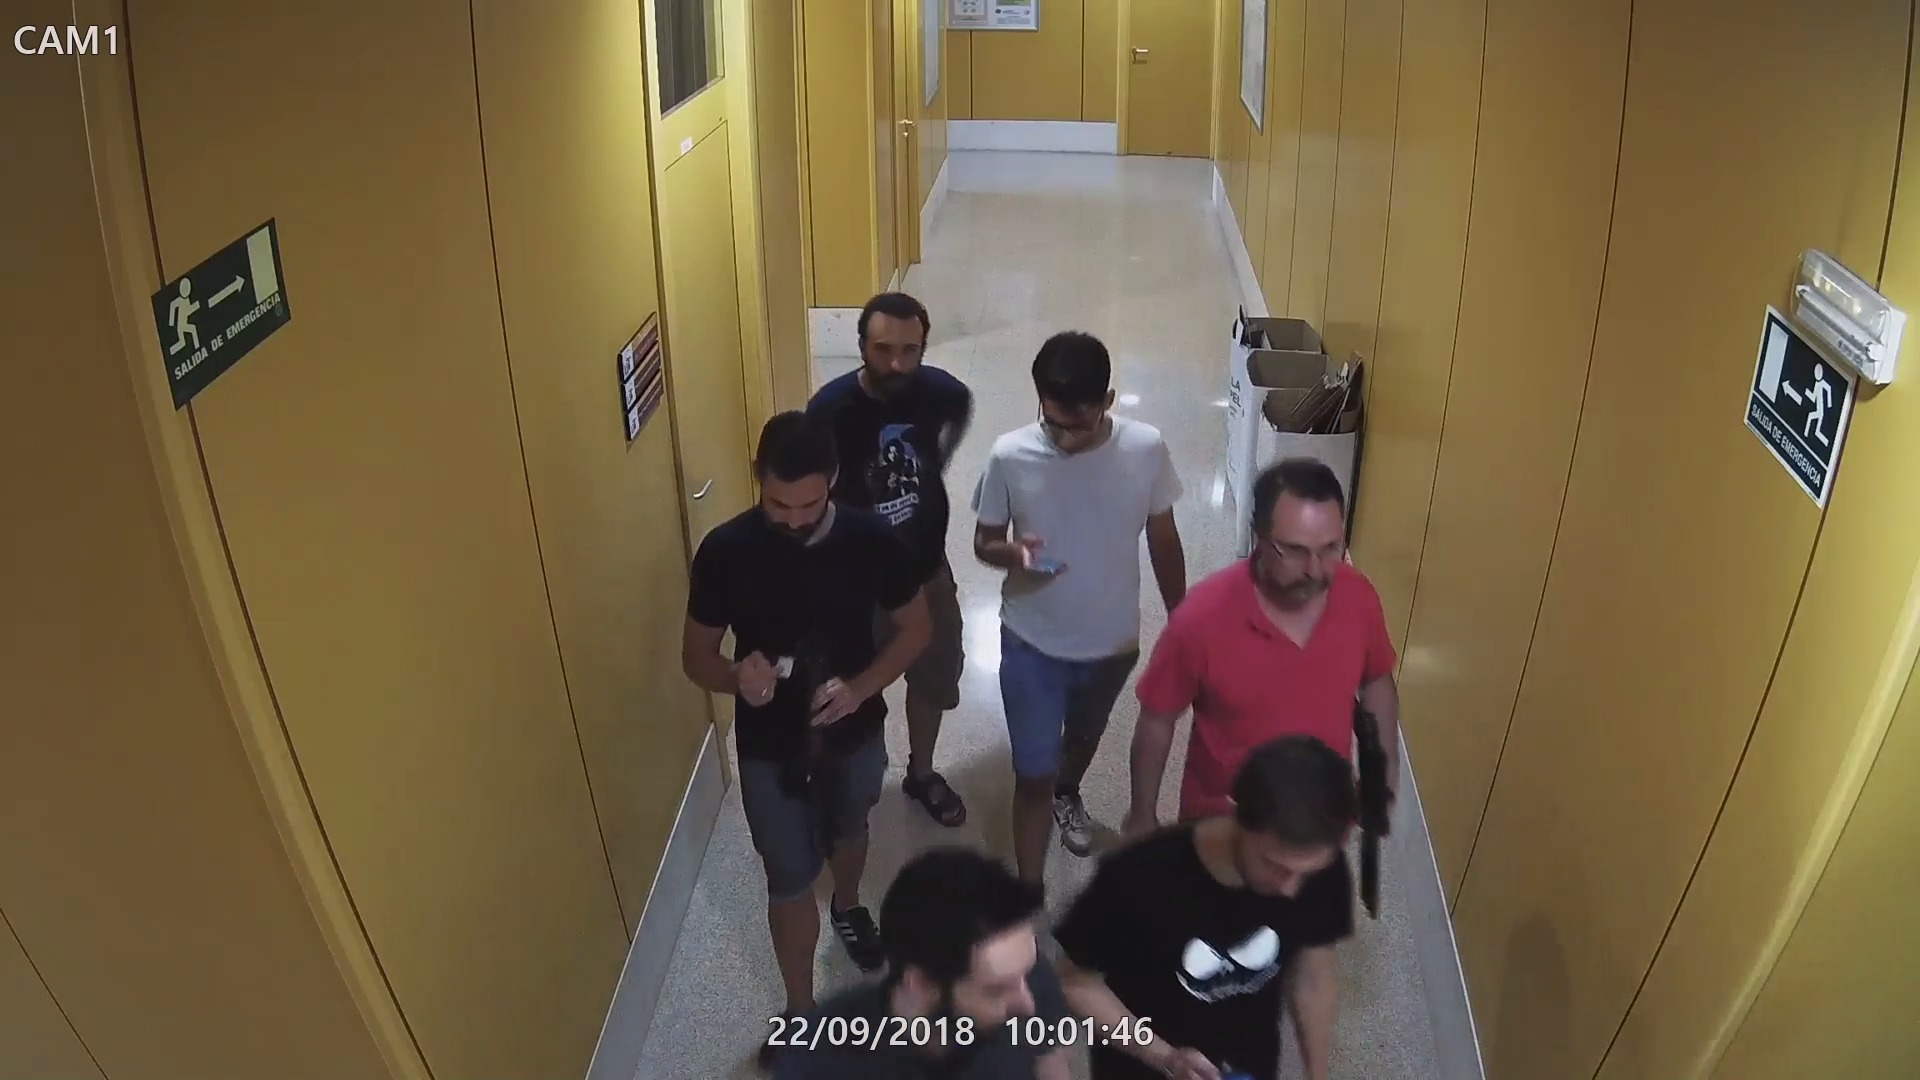Short_rifle: (760, 649, 839, 880), (1352, 692, 1389, 926)
